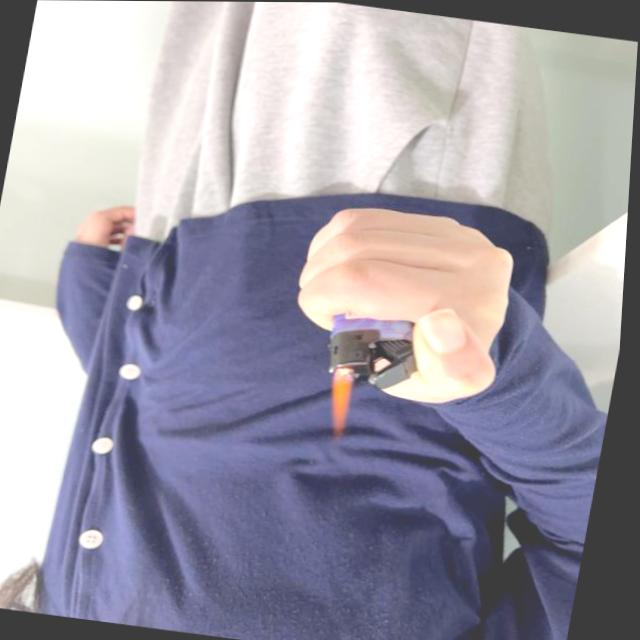helmet: (323, 360, 361, 436)
